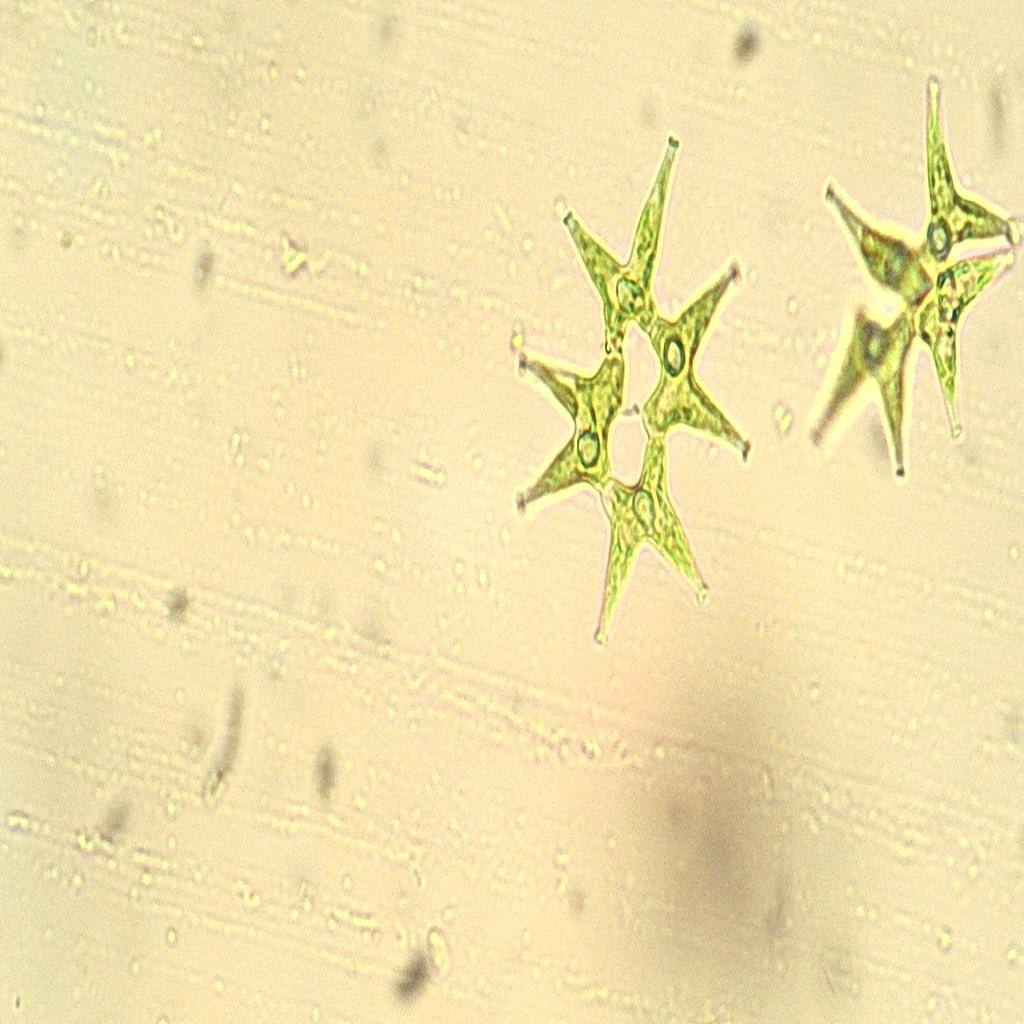Pediastrum_75FO: (496, 114, 761, 670)
